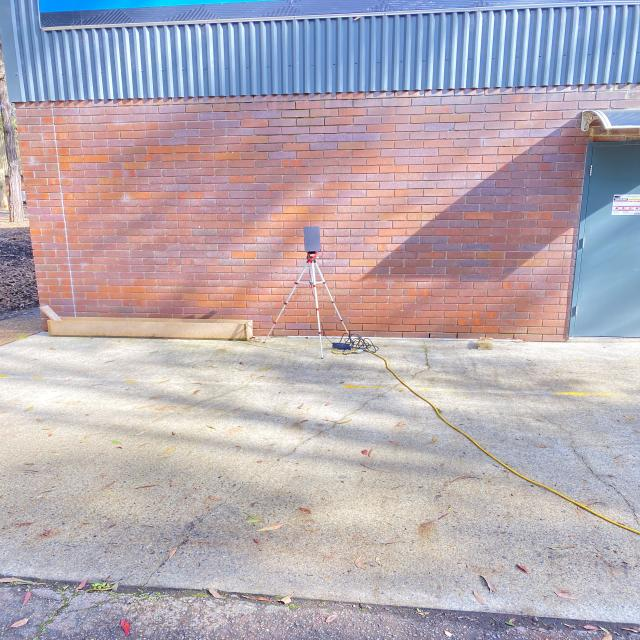matrix: (299, 220, 325, 254)
